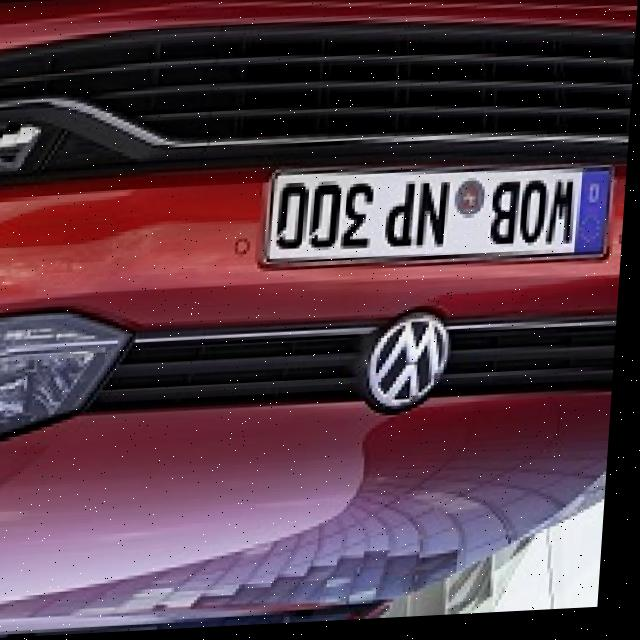plate: (263, 162, 621, 284)
